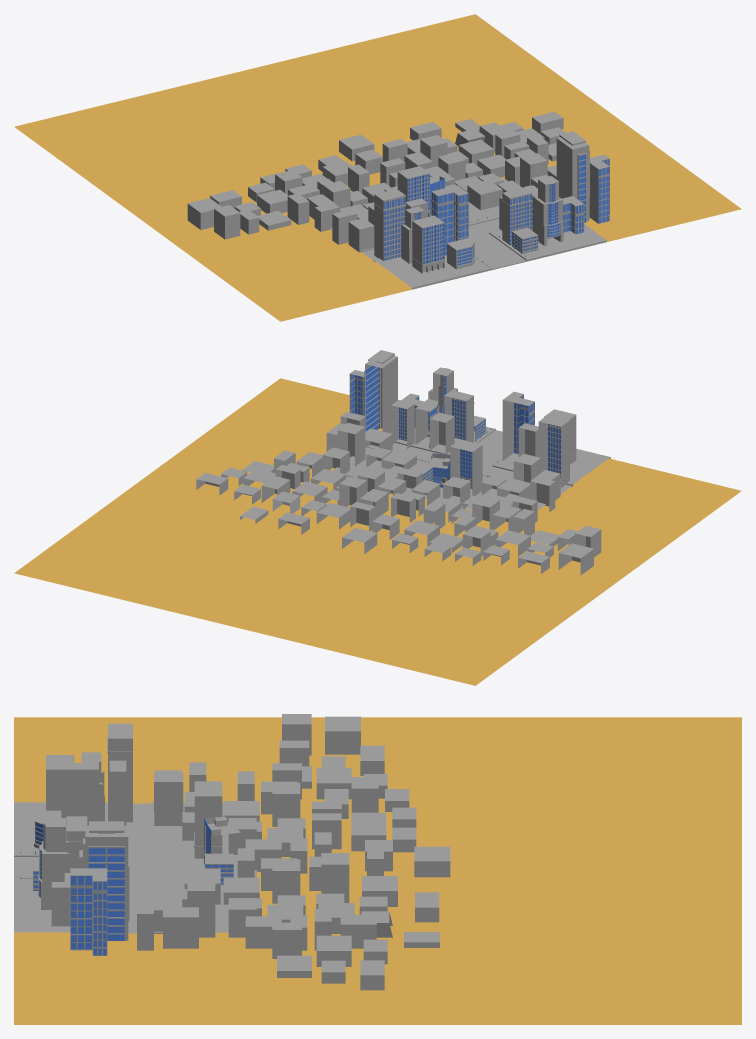
The model's file is city_comp.fbx.
The picture shows the model from 3 angles, top to bottom: view 1: azimuth 30°, elevation 25°; view 2: azimuth 150°, elevation 25°; view 3: azimuth 270°, elevation 25°; orthographic projection. The views are drawn at different scales.
Visible parts, largest first — view 1: low_pCube28; view 2: low_pCube28; view 3: low_pCube28.
Boxes of the visible parts, x1,y1,x2,y2 form: low_pCube28: [14, 14, 741, 321]; low_pCube28: [14, 350, 741, 685]; low_pCube28: [14, 714, 741, 1024].
Bounding box in the file's own units: 96.19 × 15.88 × 96.19.
